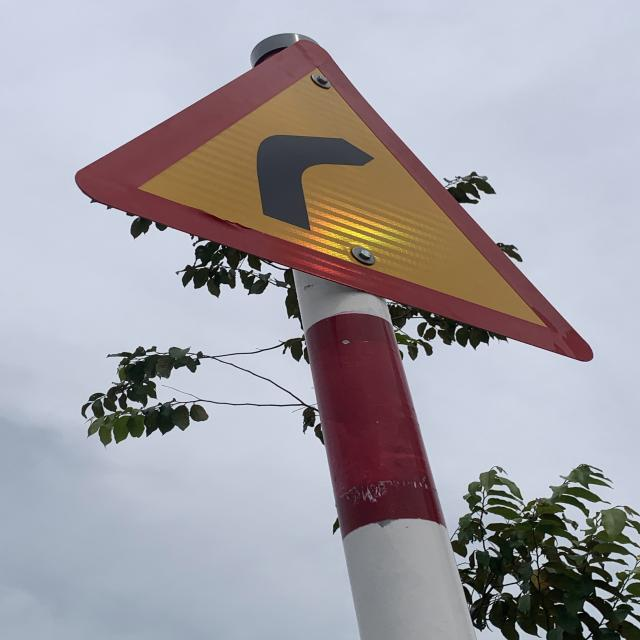Duong_Nguoi_Di_Bo_Cat_Ngang: (76, 37, 594, 364)
